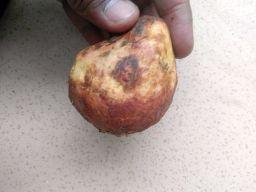guava: (65, 14, 181, 137)
